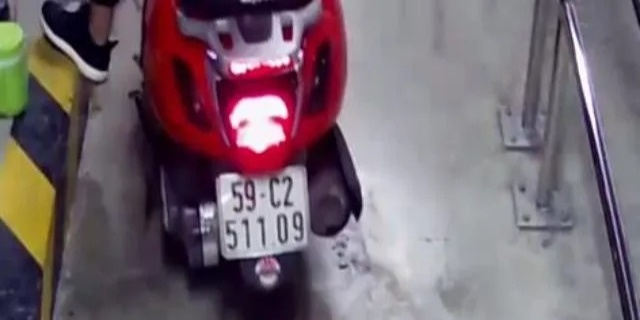bien_so: (217, 165, 309, 258)
